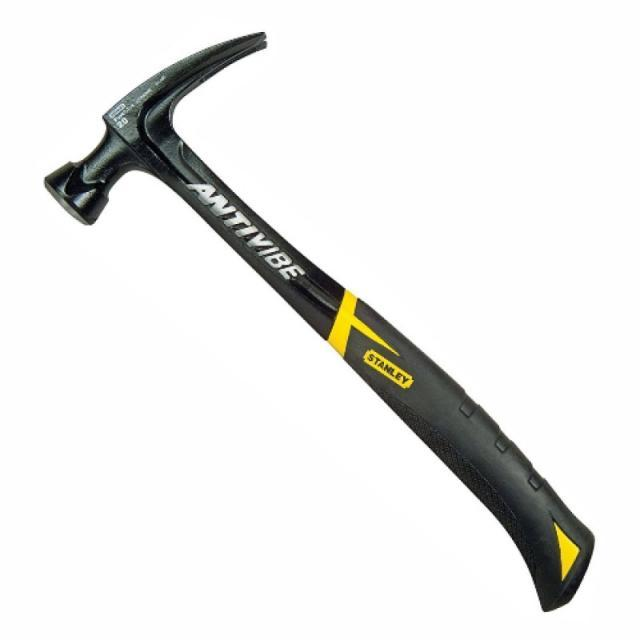hammer: (38, 26, 602, 618)
